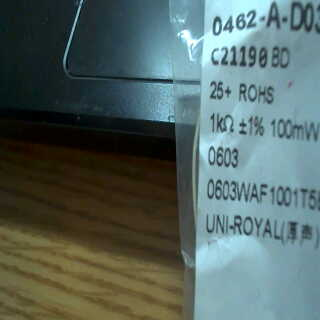1kR: (208, 108, 239, 137)
